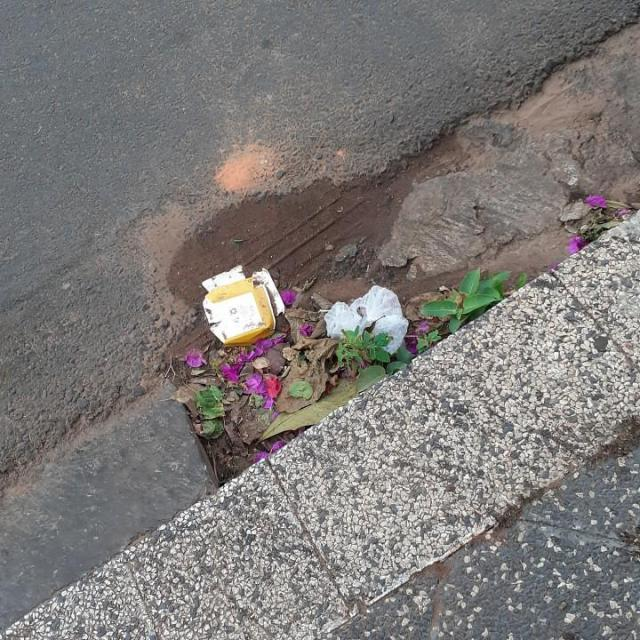litter: (200, 265, 287, 346), (325, 285, 408, 356)
